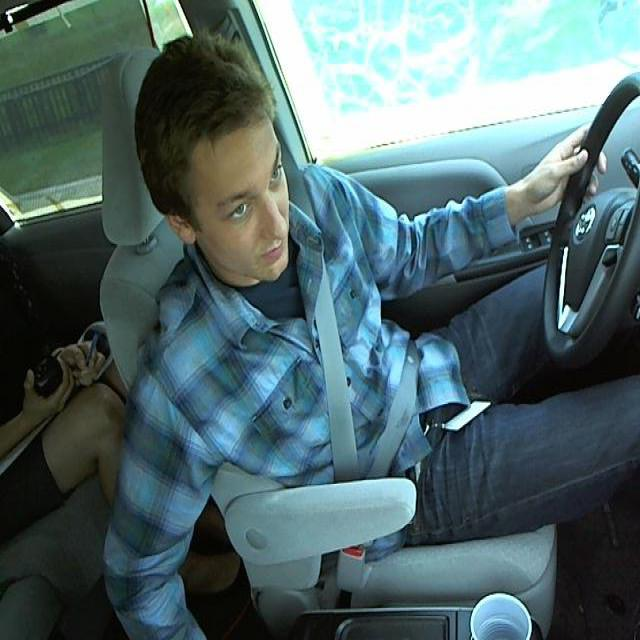seatbelt: (295, 224, 431, 477)
